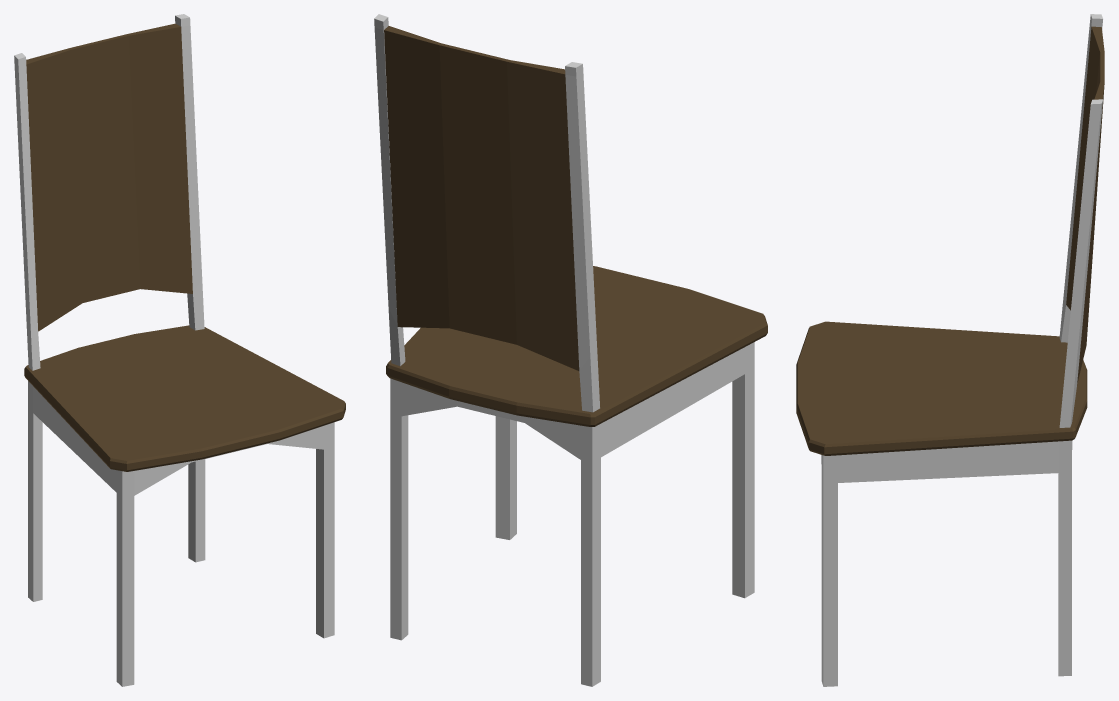
Rendered from bureauChair.fbx.
3 renders of one model, left to right at view 1: azimuth 30°, elevation 25°; view 2: azimuth 150°, elevation 25°; view 3: azimuth 270°, elevation 25°, orthographic. The views are drawn at different scales.
Parts seen in each view (by area): view 1: Cube; view 2: Cube; view 3: Cube.
Boxes of the visible parts, <box> form: Cube: <box>14,14,345,686</box>; Cube: <box>374,14,767,686</box>; Cube: <box>796,14,1104,686</box>.
Size of the model in its own units: 0.65 by 1.4 by 0.6839.
